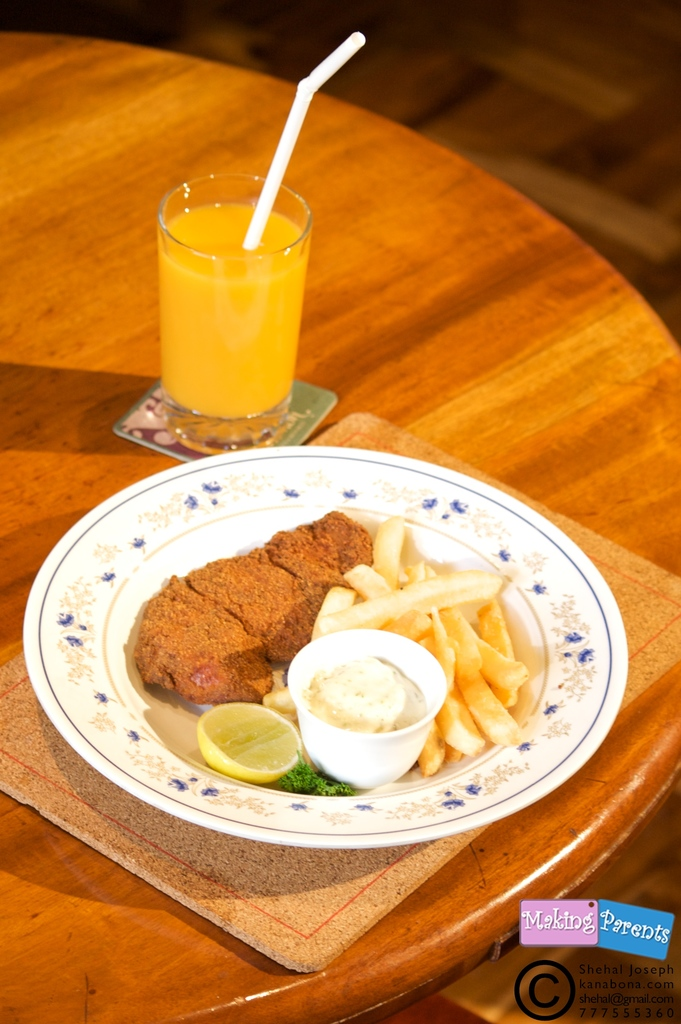French fries: (324, 545, 568, 780)
